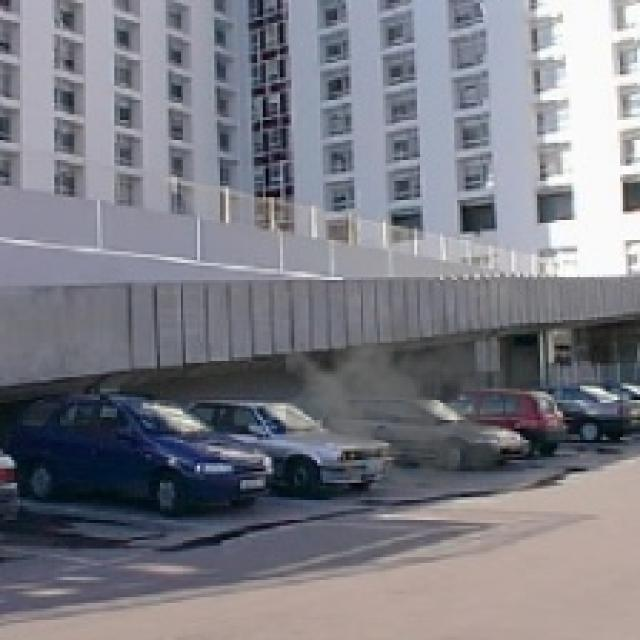smoke: (286, 288, 540, 503)
